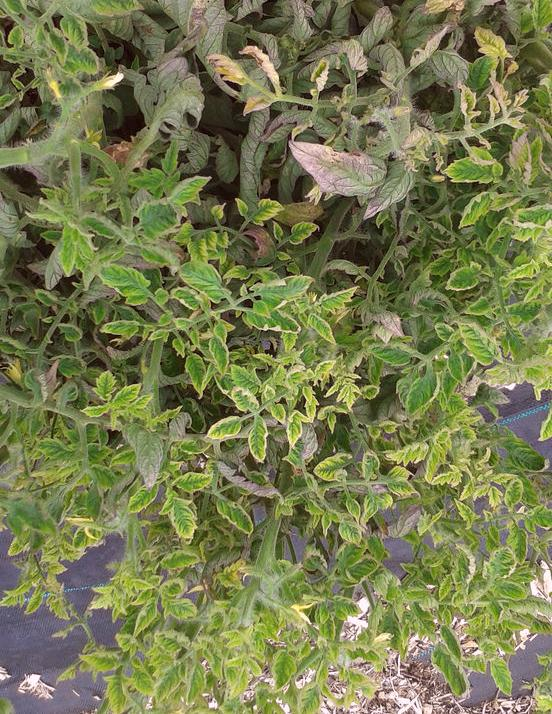Tomato leaf yellow virus: (93, 257, 163, 310), (134, 189, 199, 240), (449, 313, 504, 370), (432, 542, 476, 610), (159, 165, 218, 211), (443, 145, 510, 185), (176, 259, 238, 301), (398, 358, 437, 420), (428, 650, 480, 695), (125, 463, 166, 519), (56, 203, 82, 280), (436, 257, 490, 294), (161, 486, 198, 539), (154, 657, 190, 708), (255, 300, 304, 337), (152, 577, 197, 617), (255, 272, 317, 301), (455, 190, 498, 229), (363, 334, 413, 367), (316, 281, 363, 315), (130, 600, 166, 643), (306, 309, 342, 351), (283, 220, 336, 248), (383, 436, 432, 466), (500, 463, 527, 516), (481, 546, 517, 583), (246, 416, 274, 463), (176, 464, 218, 495), (270, 648, 300, 690), (244, 198, 286, 227), (104, 664, 128, 714), (324, 590, 370, 616), (205, 330, 234, 371), (486, 657, 517, 695), (107, 380, 146, 409), (183, 353, 207, 400), (315, 448, 348, 482), (232, 381, 265, 415), (206, 410, 245, 438), (282, 409, 308, 449), (154, 547, 200, 569), (339, 514, 365, 546)
